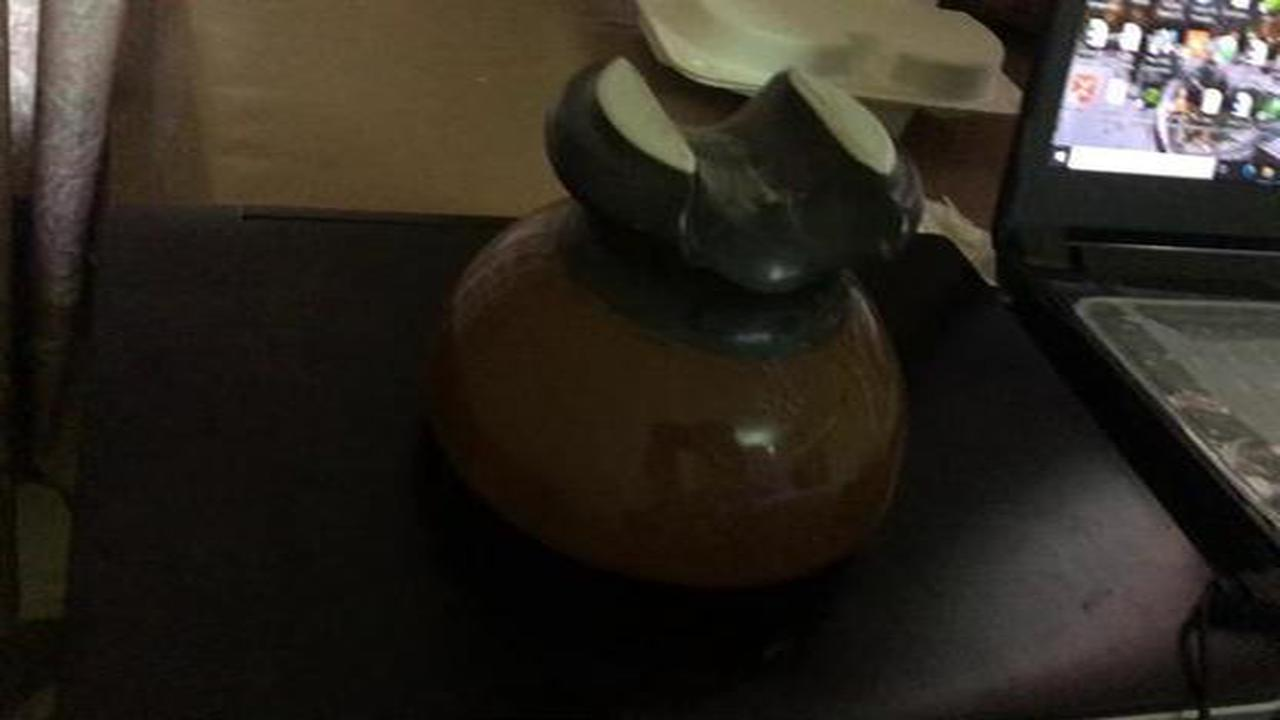insulator_pin: (404, 35, 967, 610)
